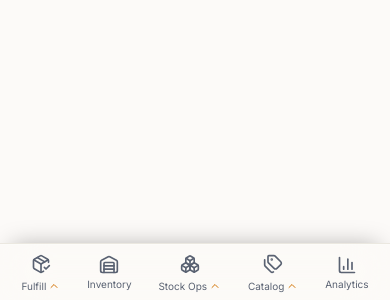
opening a group sets aria-expanded=true; opening a second closes the first (single-open)
Click the button "Fulfill".
click(41, 272)  # box [13,244,68,299]
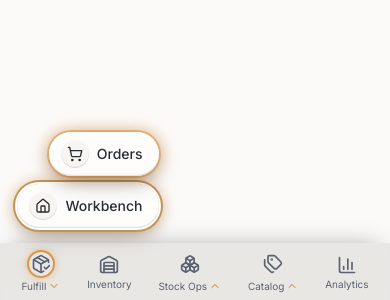
Now the button "Fulfill" is expanded, box [13,244,68,299]
Note: Opening Stock Ops must close Fulfill.
Click the button "Stock Ops".
click(190, 272)  # box [150,244,229,299]
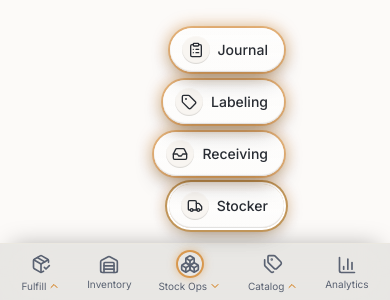
Now the button "Stock Ops" is expanded, box [150,244,229,299]
Now the button "Fulfill" is collapsed, box [13,244,68,299]
